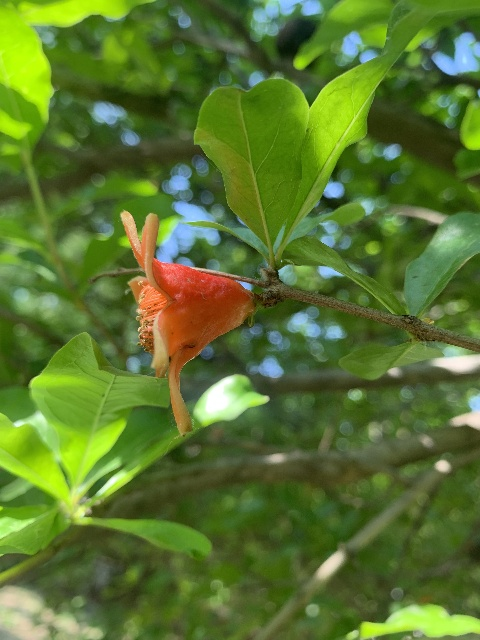flower: (120, 211, 254, 433)
